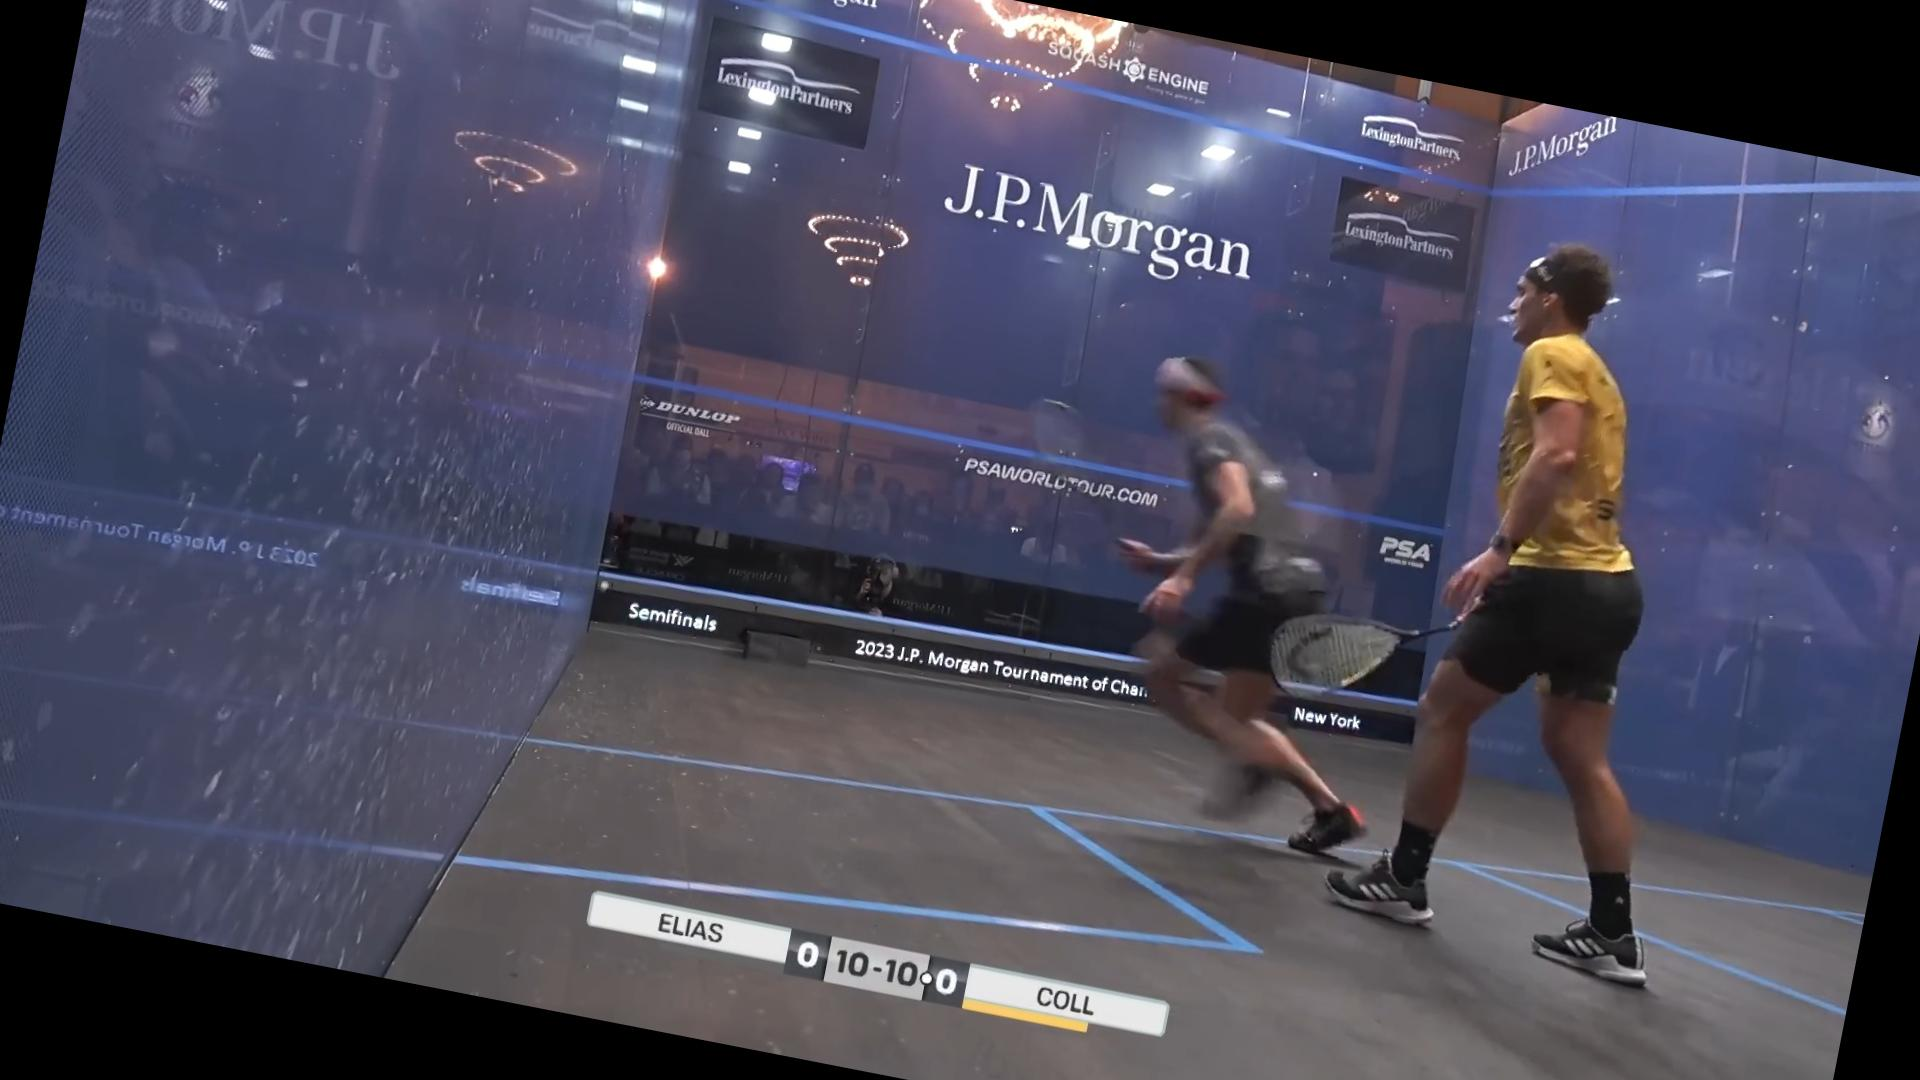Racket: (1245, 571, 1473, 724)
